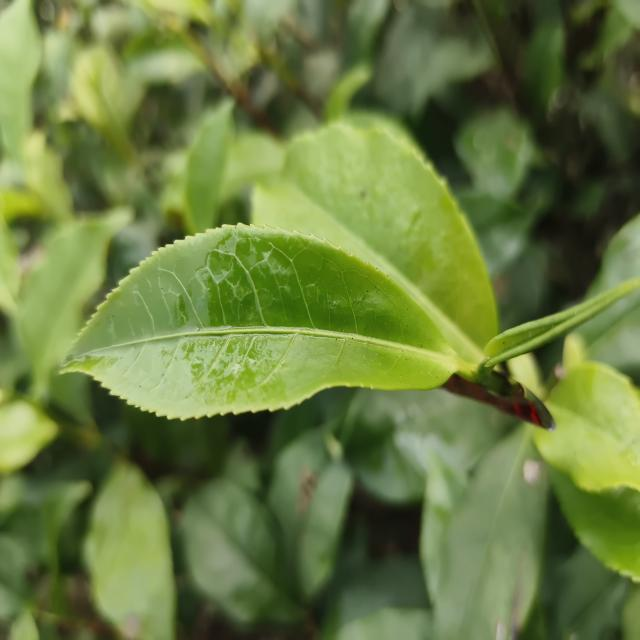Leaf: (63, 225, 471, 419), (252, 121, 498, 362), (433, 424, 548, 640), (18, 208, 132, 395), (342, 388, 515, 504), (182, 476, 300, 624), (84, 462, 176, 640), (268, 428, 354, 599), (481, 277, 640, 368), (536, 361, 640, 490), (551, 469, 640, 582), (457, 189, 535, 277), (0, 0, 42, 159), (185, 99, 234, 233), (123, 31, 205, 84), (0, 400, 57, 473)
